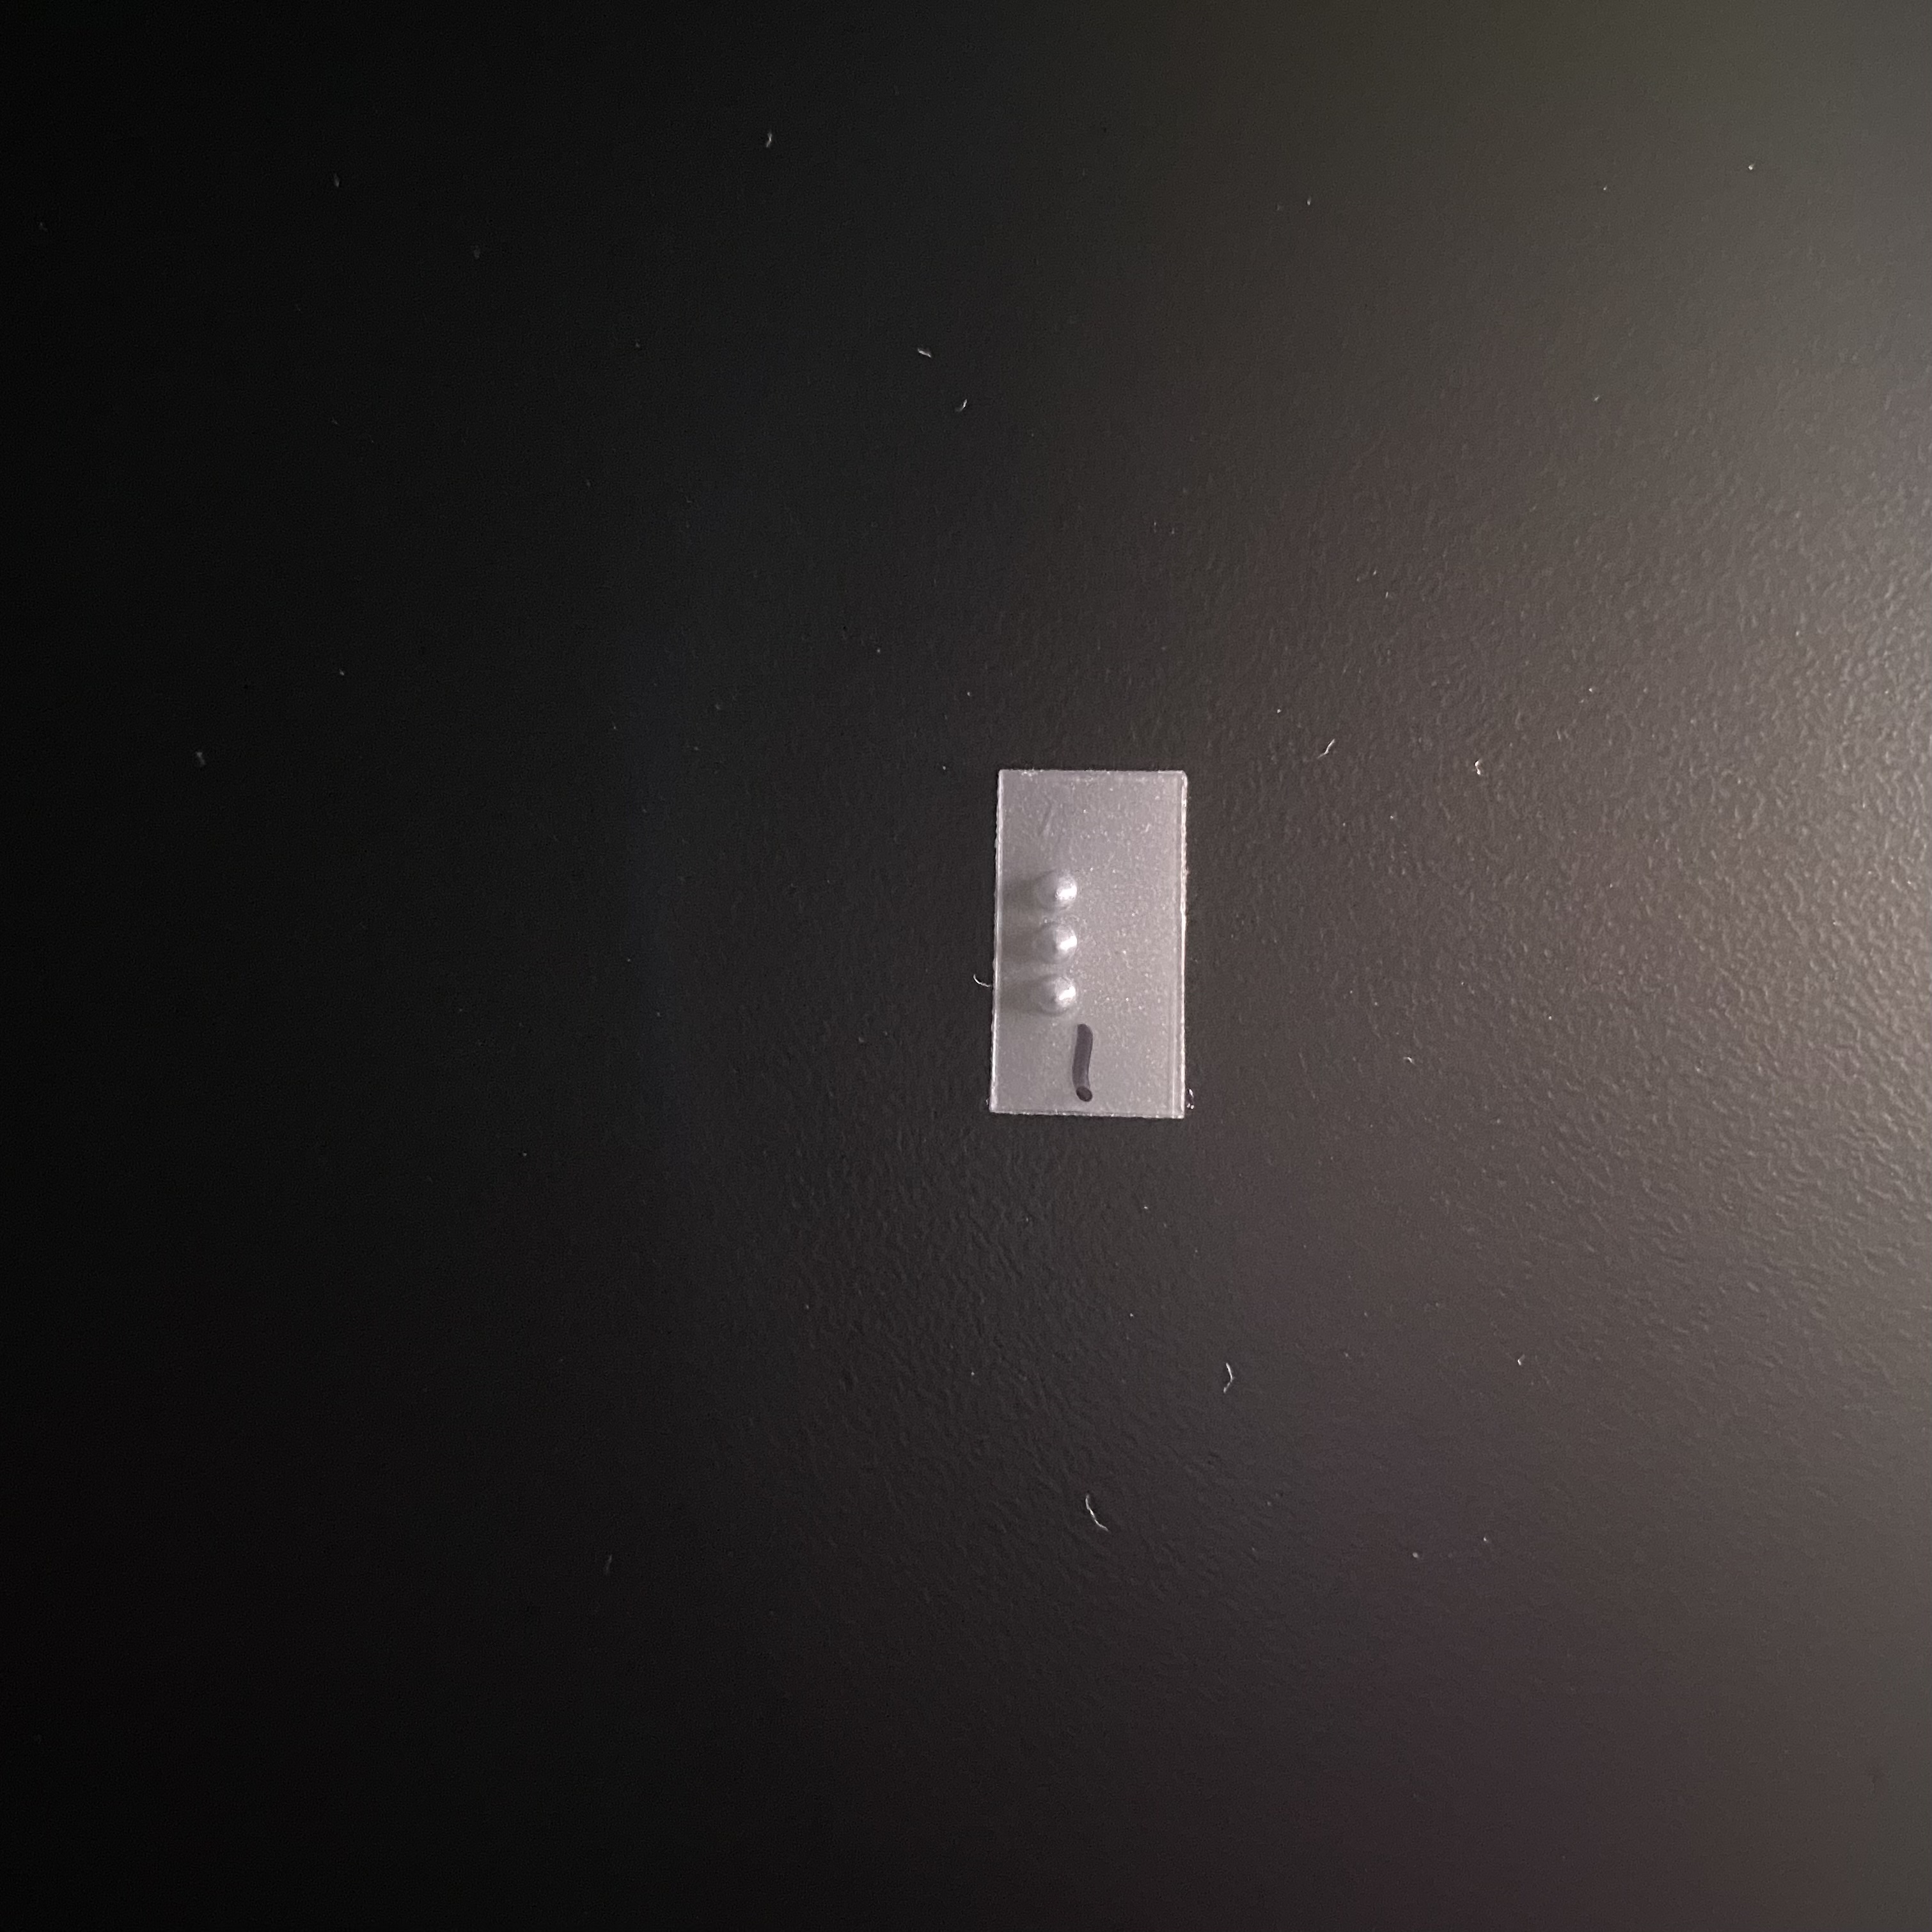l: (1005, 865, 1151, 1019)
